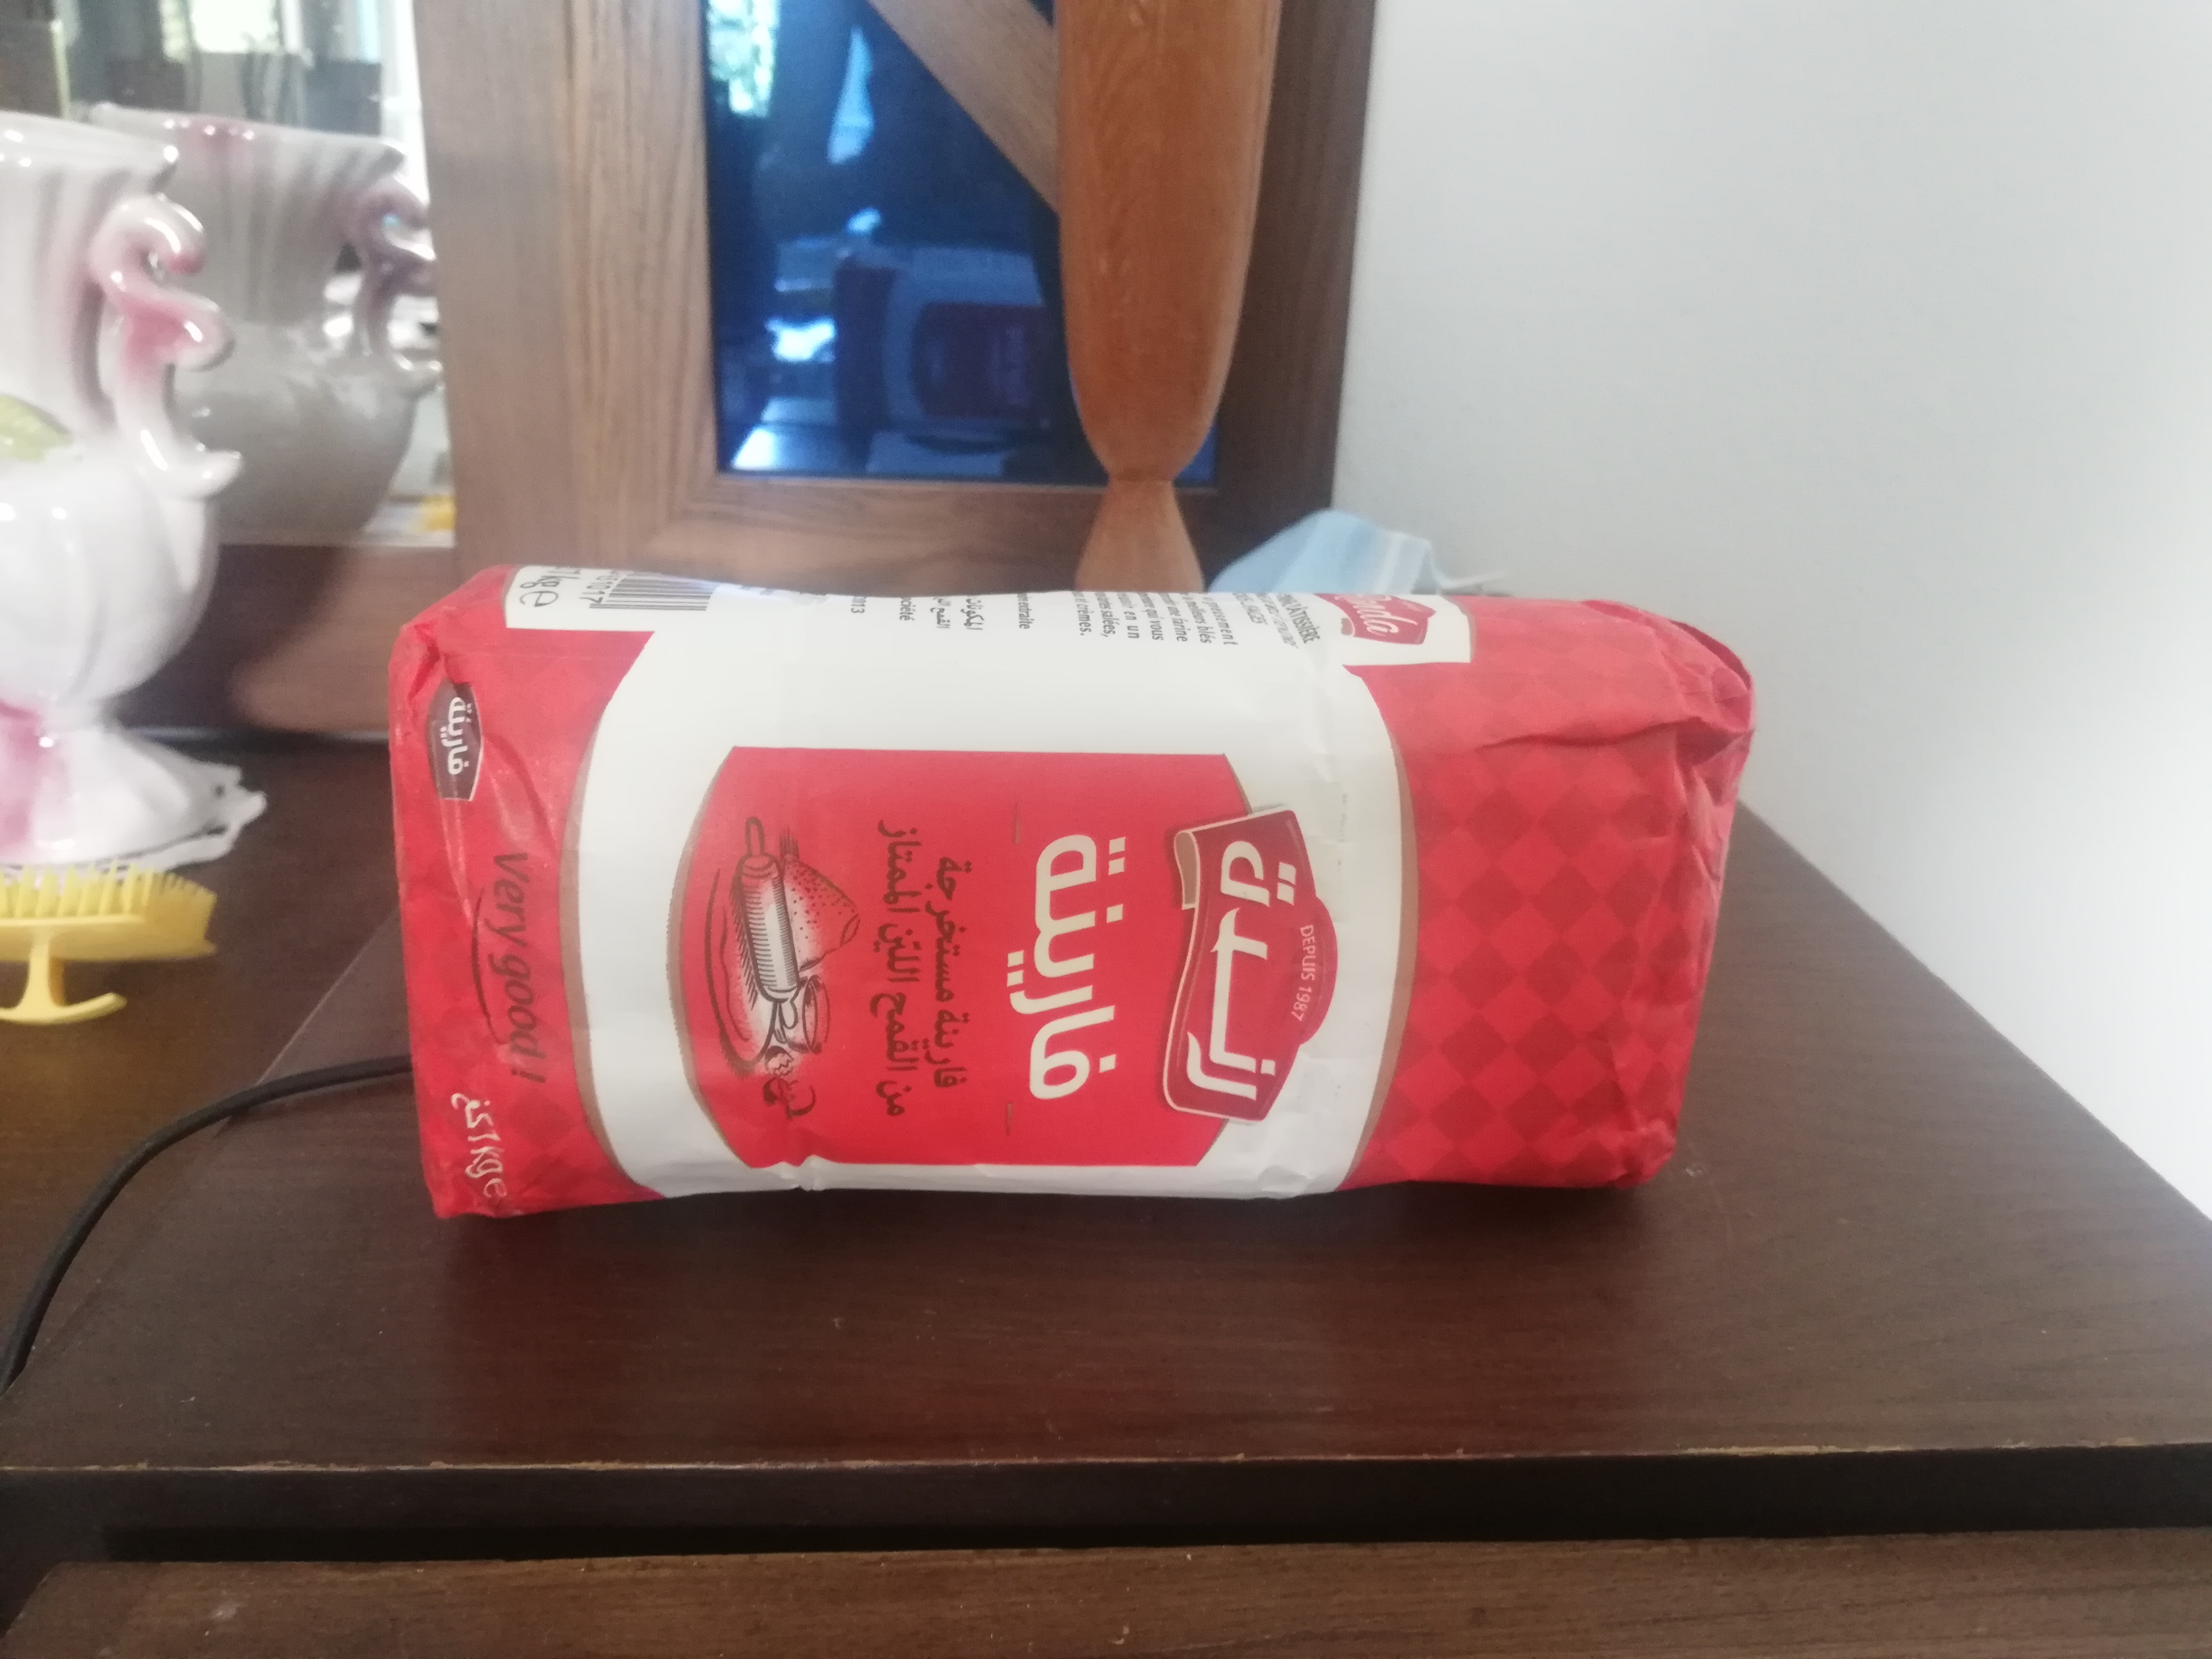Farine Randa: (383, 559, 1752, 1225)
